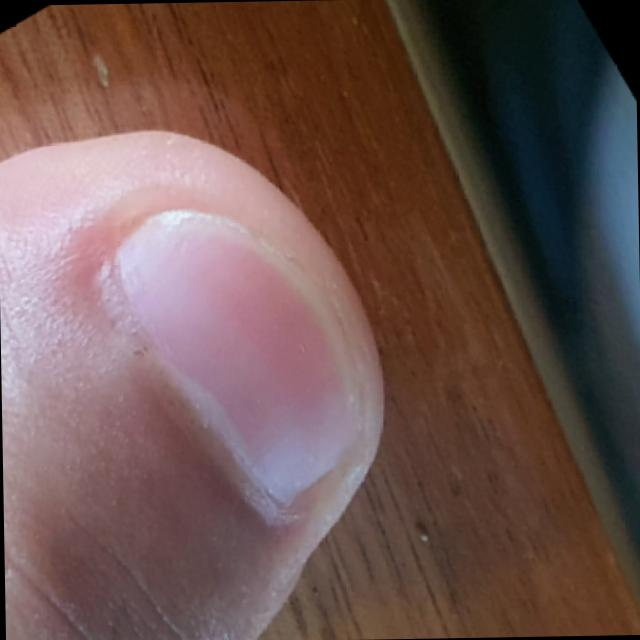Nail: (111, 210, 358, 499)
